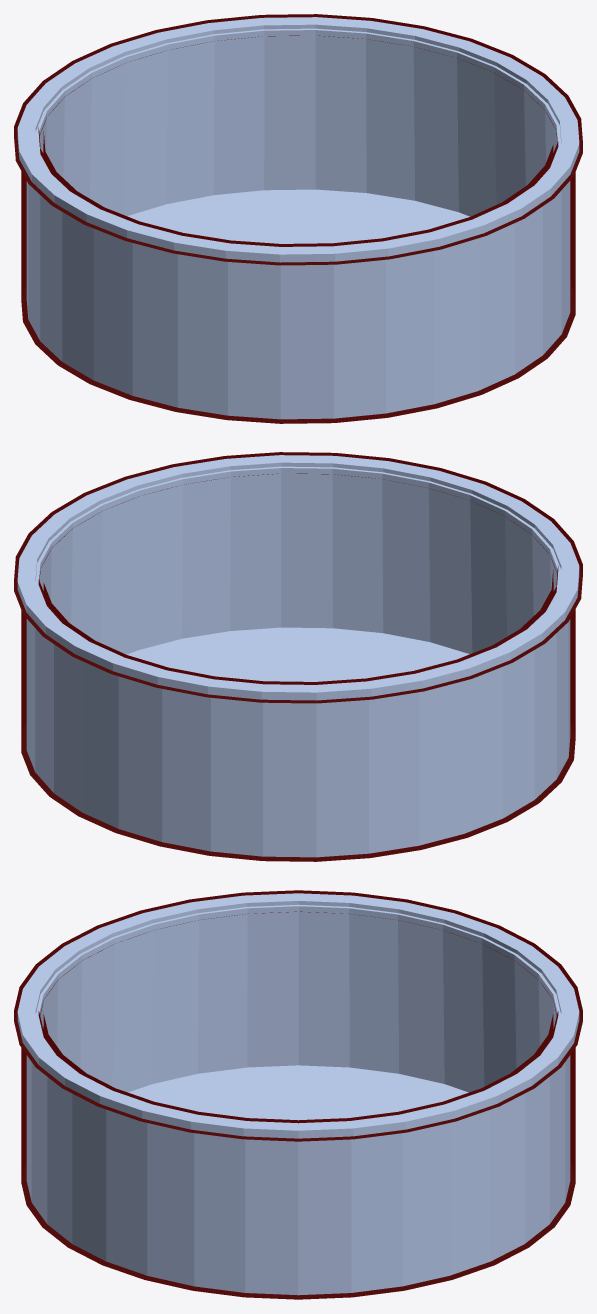
The model's file is forma redonda.glb.
The picture shows the model from 3 angles, top to bottom: view 1: azimuth 30°, elevation 25°; view 2: azimuth 150°, elevation 25°; view 3: azimuth 270°, elevation 25°; orthographic projection.
Parts seen in each view (by area): view 1: Cylinder, Cylinder.006; view 2: Cylinder, Cylinder.006; view 3: Cylinder, Cylinder.006.
Boxes of the visible parts, x1,y1,x2,y2 form: Cylinder: [21, 28, 575, 423]; Cylinder.006: [14, 14, 582, 265]; Cylinder: [21, 466, 575, 861]; Cylinder.006: [14, 452, 582, 703]; Cylinder: [21, 904, 575, 1299]; Cylinder.006: [14, 890, 582, 1141].
Size of the model in its own units: 21.41 by 7.14 by 21.41.
